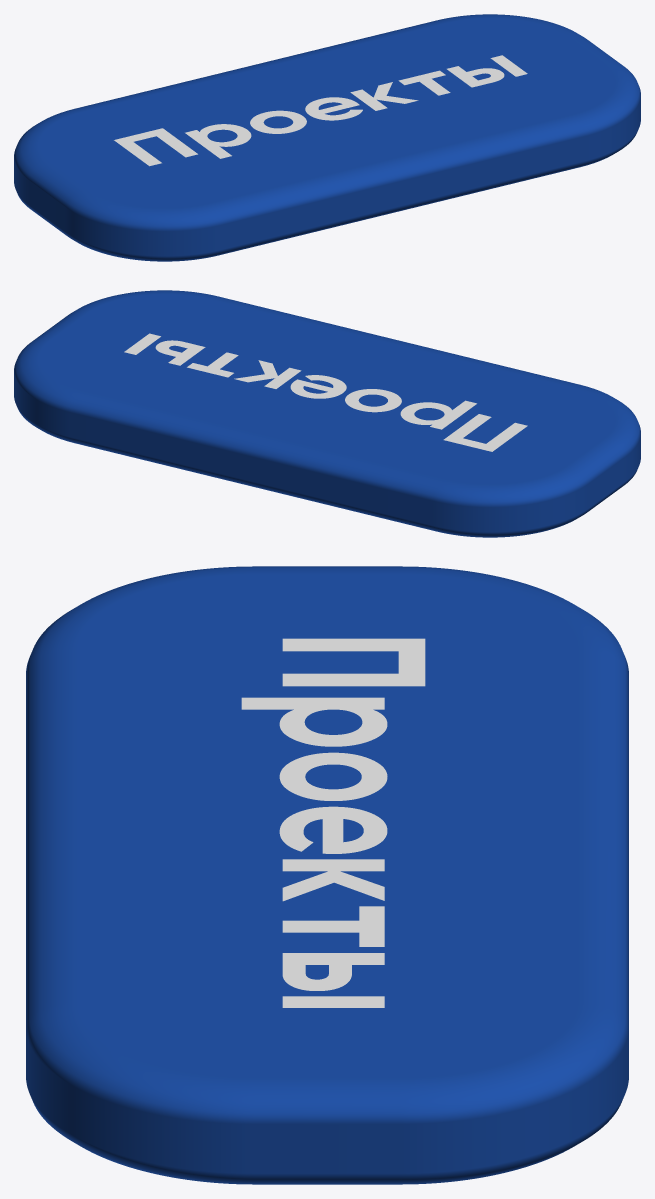
Rendered from projects.glb.
The picture shows the model from 3 angles, top to bottom: view 1: azimuth 30°, elevation 25°; view 2: azimuth 150°, elevation 25°; view 3: azimuth 270°, elevation 25°; orthographic projection. The views are drawn at different scales.
Visible parts, largest first — view 1: проекты, Text 4; view 2: проекты, Text 4; view 3: проекты, Text 4.
Boxes of the visible parts, x1=… form: проекты: x1=14, y1=14, x2=640, y2=261; Text 4: x1=114, y1=55, x2=527, y2=166; проекты: x1=14, y1=290, x2=640, y2=537; Text 4: x1=124, y1=333, x2=527, y2=451; проекты: x1=26, y1=566, x2=628, y2=1184; Text 4: x1=241, y1=638, x2=425, y2=1007.
Bounding box in the file's own units: 1.02 × 0.0878 × 0.4731.
